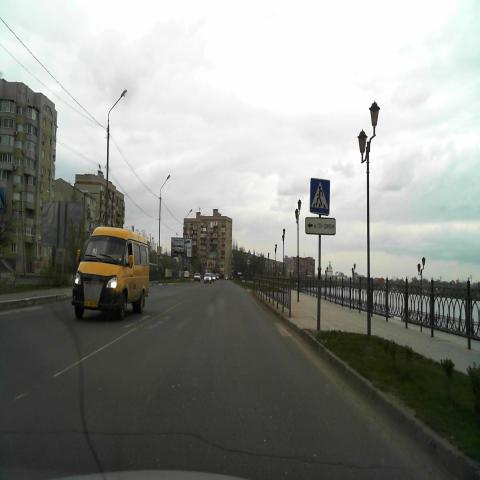5_19_1: (310, 178, 330, 213)
